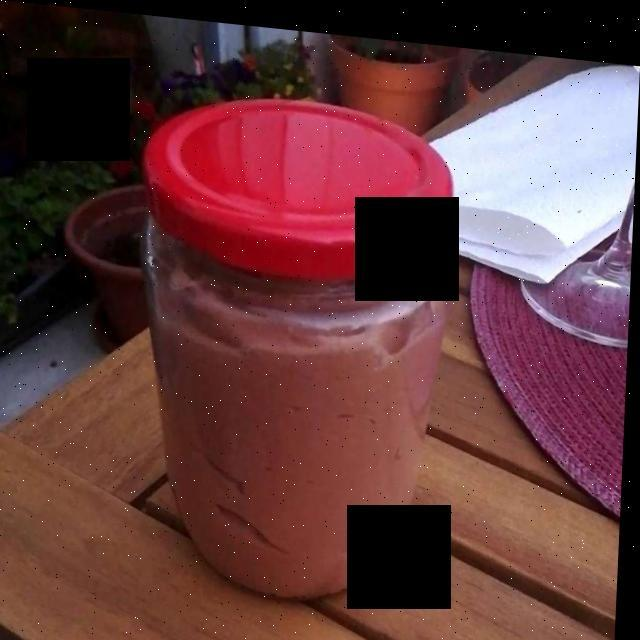chocolate-mousse: (158, 243, 442, 580)
